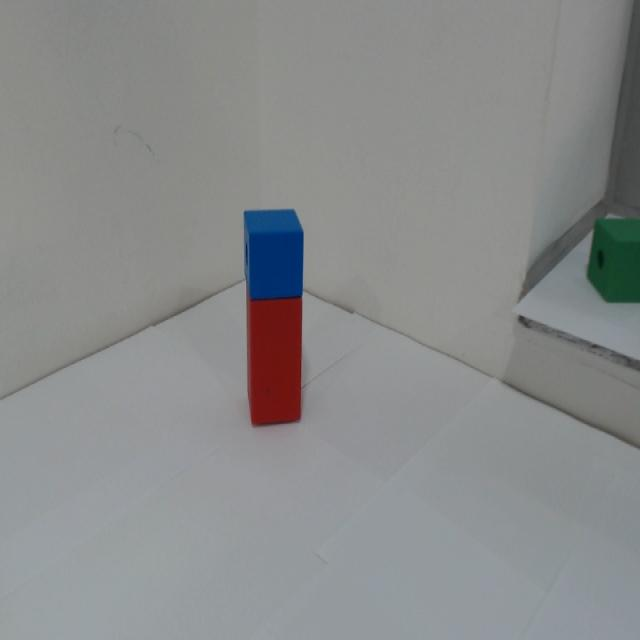cube: (224, 187, 311, 303)
